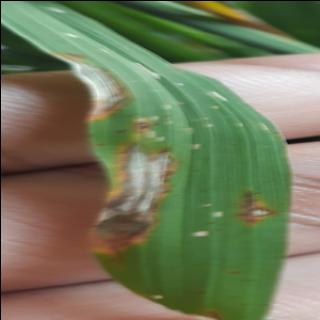Blast: (84, 128, 184, 274), (56, 47, 136, 127), (236, 194, 274, 232)
